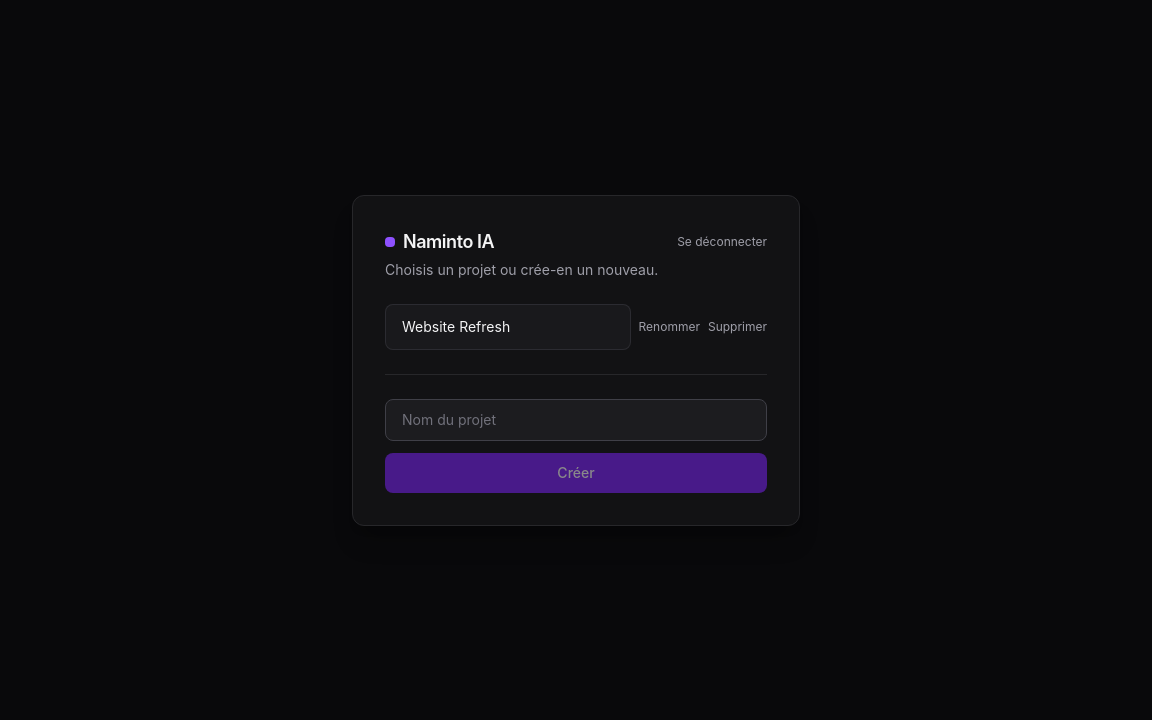
Test: HomePage › enters the chat for a project selected from the picker
Click the button "Website Refresh". click: click(508, 326)
box: top-left (385, 304), bottom-right (631, 350)
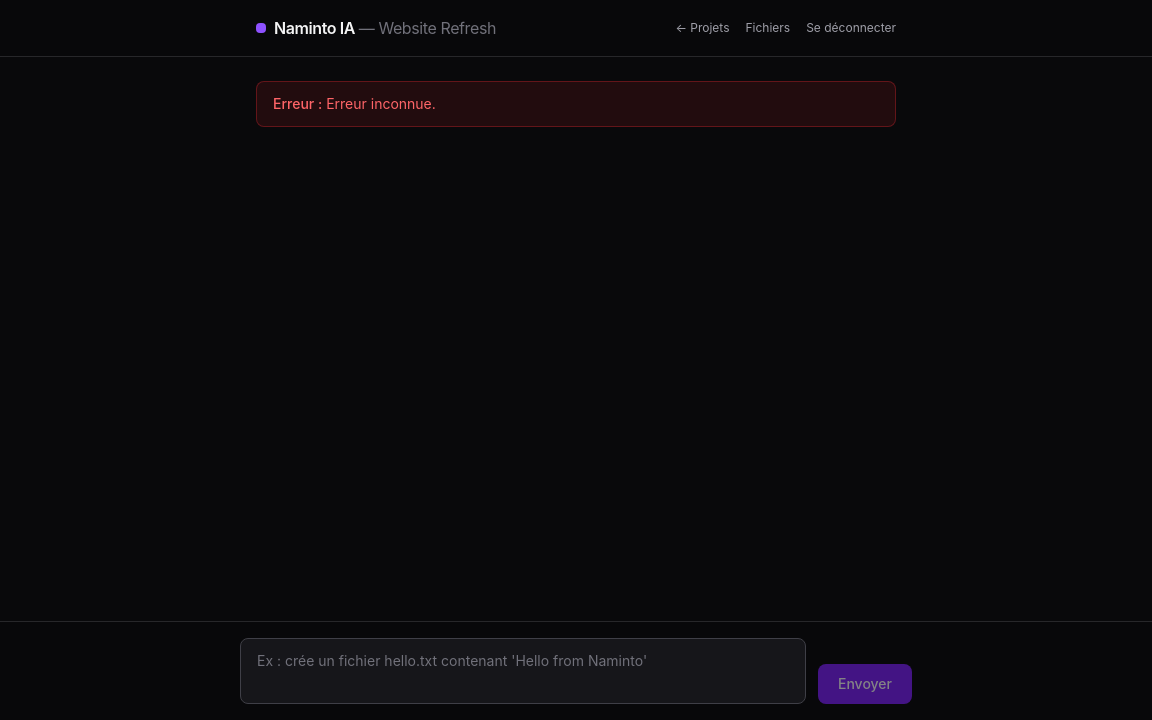
Check: the text box with placeholder "Ex :" is shown, box top-left (240, 638), bottom-right (806, 704)
